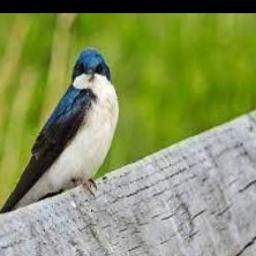Swallow: (0, 48, 119, 215)
